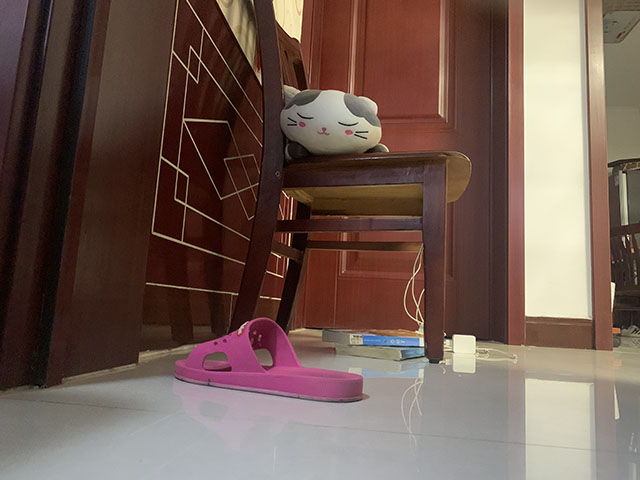book: (320, 325, 427, 362)
slippers: (171, 315, 365, 404)
stool: (227, 1, 473, 365)
wire: (402, 242, 522, 360)
